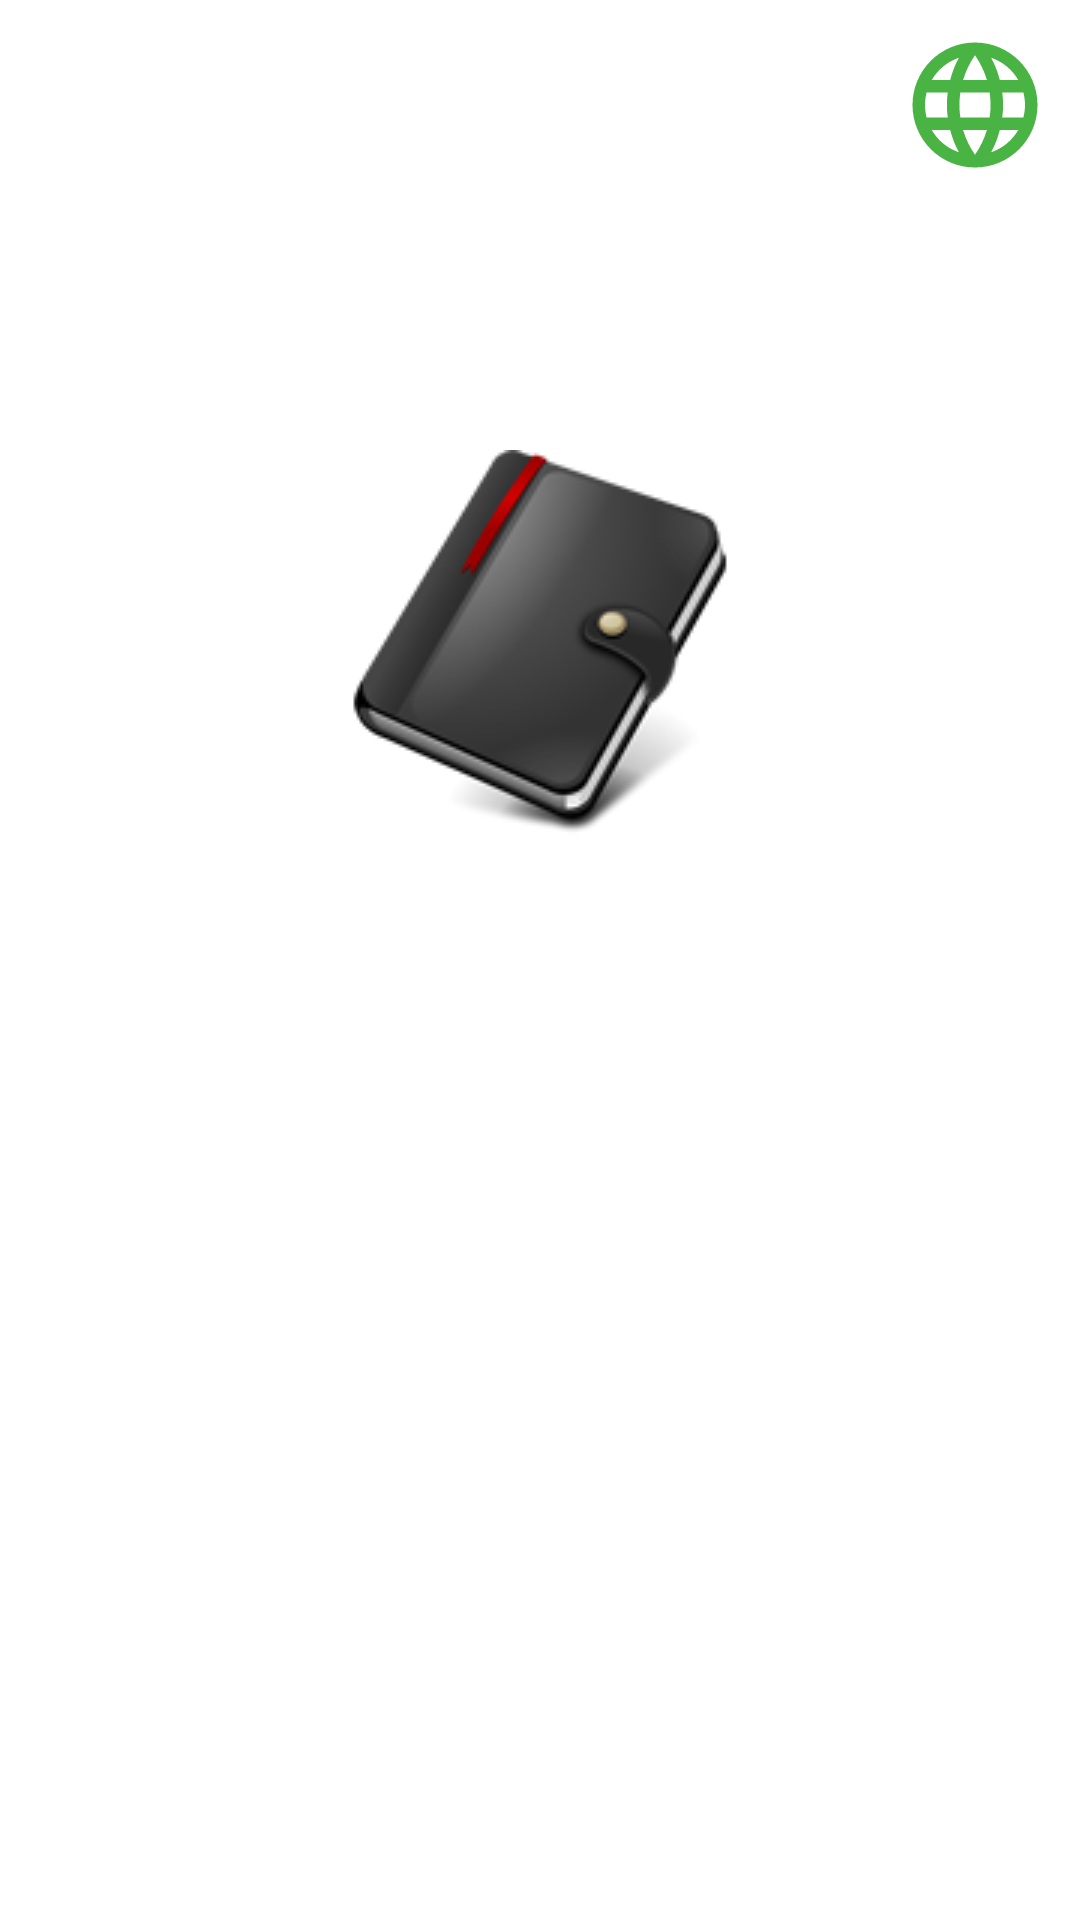

Locate icon controls on the screen. Image size 1080*1920, boxes as (x1, y1, x2, y2).
language: (912, 42, 1038, 168)
